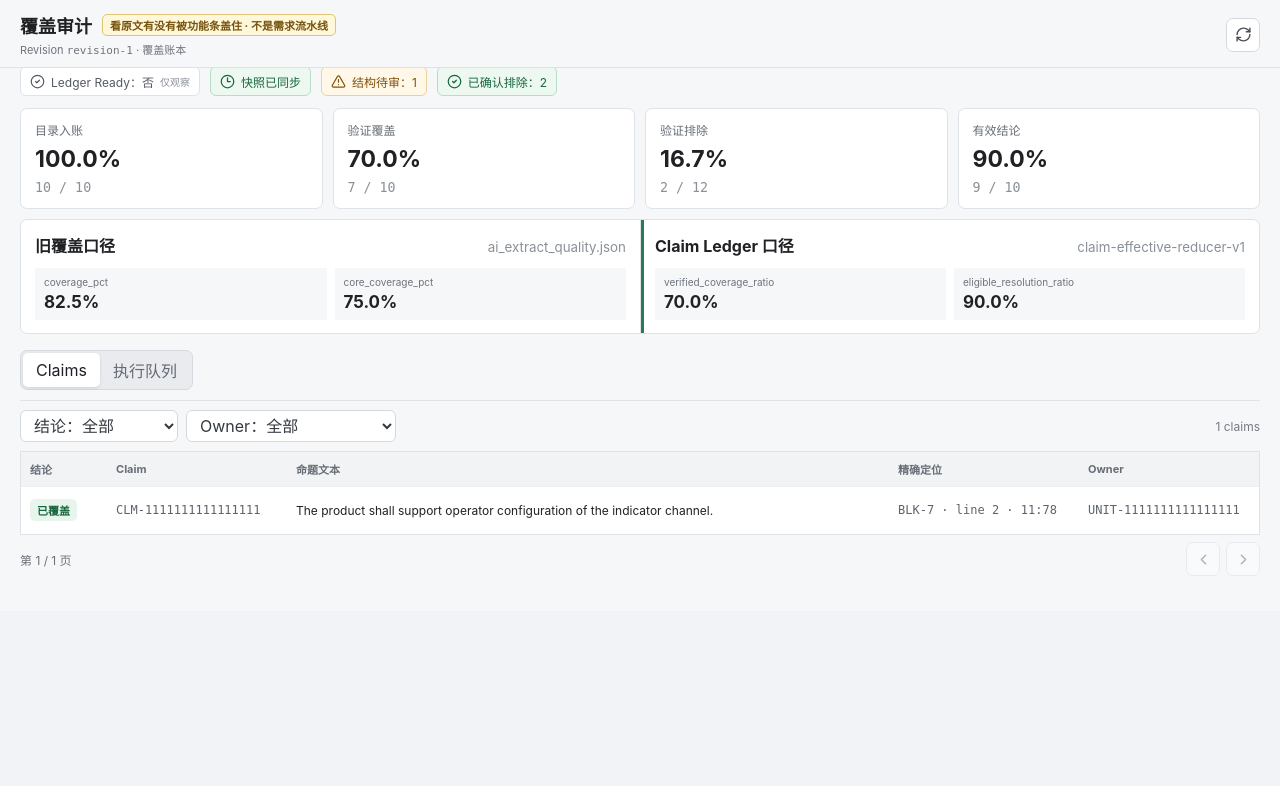
Test case: ClaimLedger › paginates the proposal queue with an independent offset and a real total
Click the tab "执行队列" at coordinates (145, 370), box [100, 353, 190, 387]
(page scrolled)
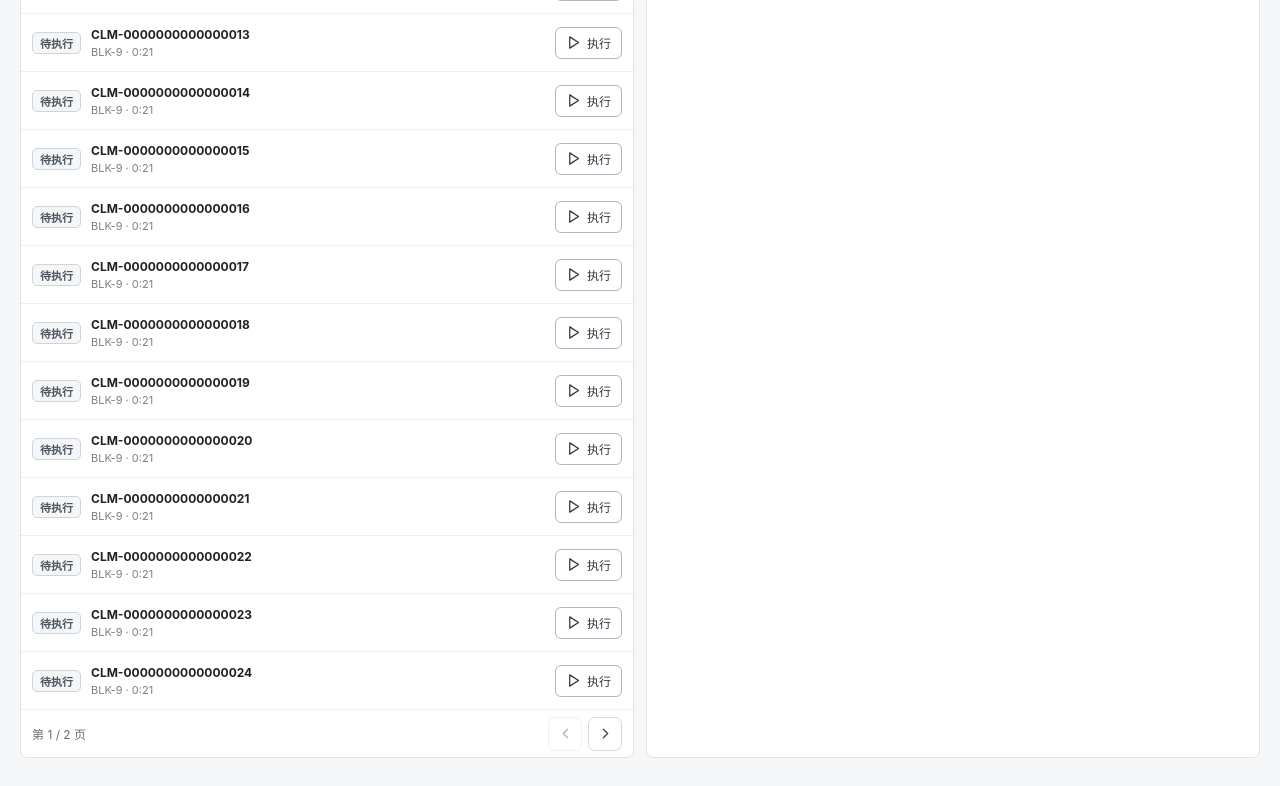
Now the footer with test id "claim-queue-pagination" reads "第 1 / 2 页", box [32, 727, 86, 742]
Click the button named "队列下一页" at coordinates (605, 734), box [588, 716, 622, 750]
(page scrolled)
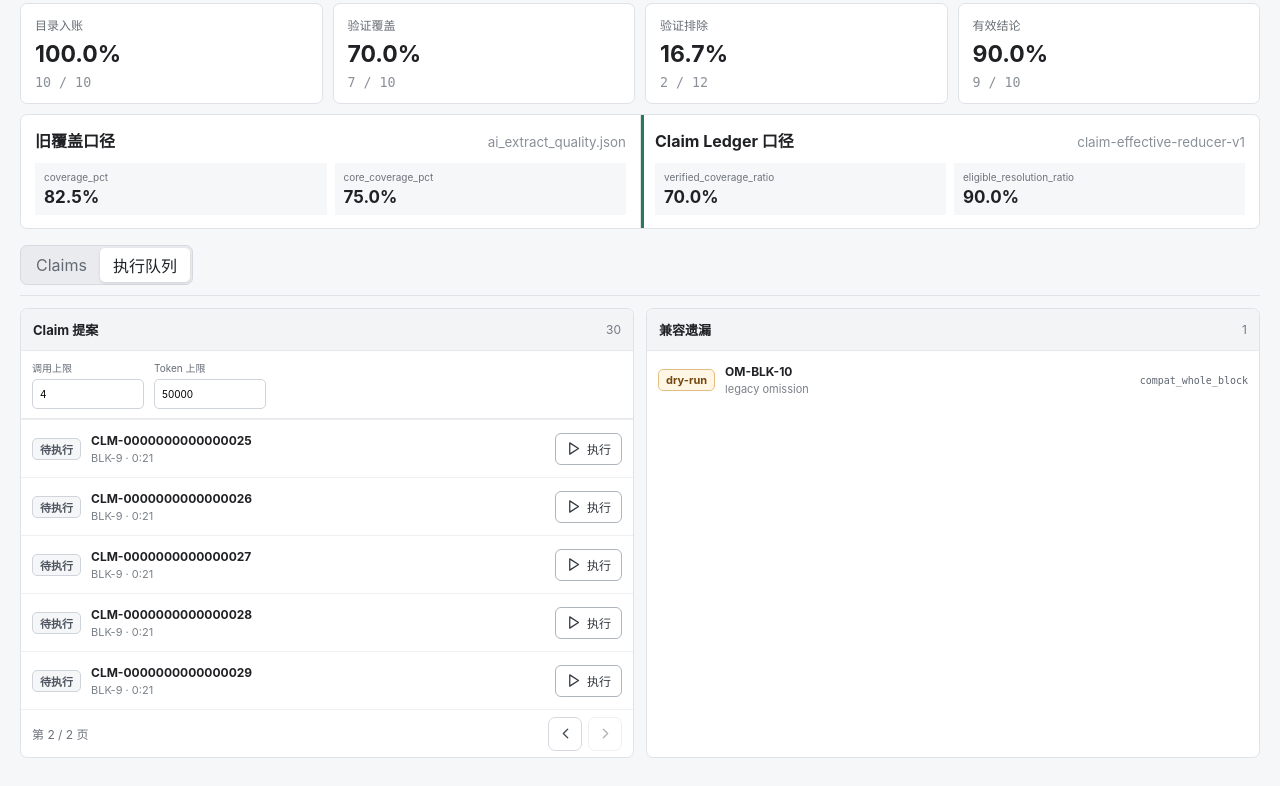
Now the footer with test id "claim-queue-pagination" reads "第 2 / 2 页", box [32, 727, 88, 742]
Now the text "CLM-0000000000000029" is shown, box [91, 664, 252, 680]
